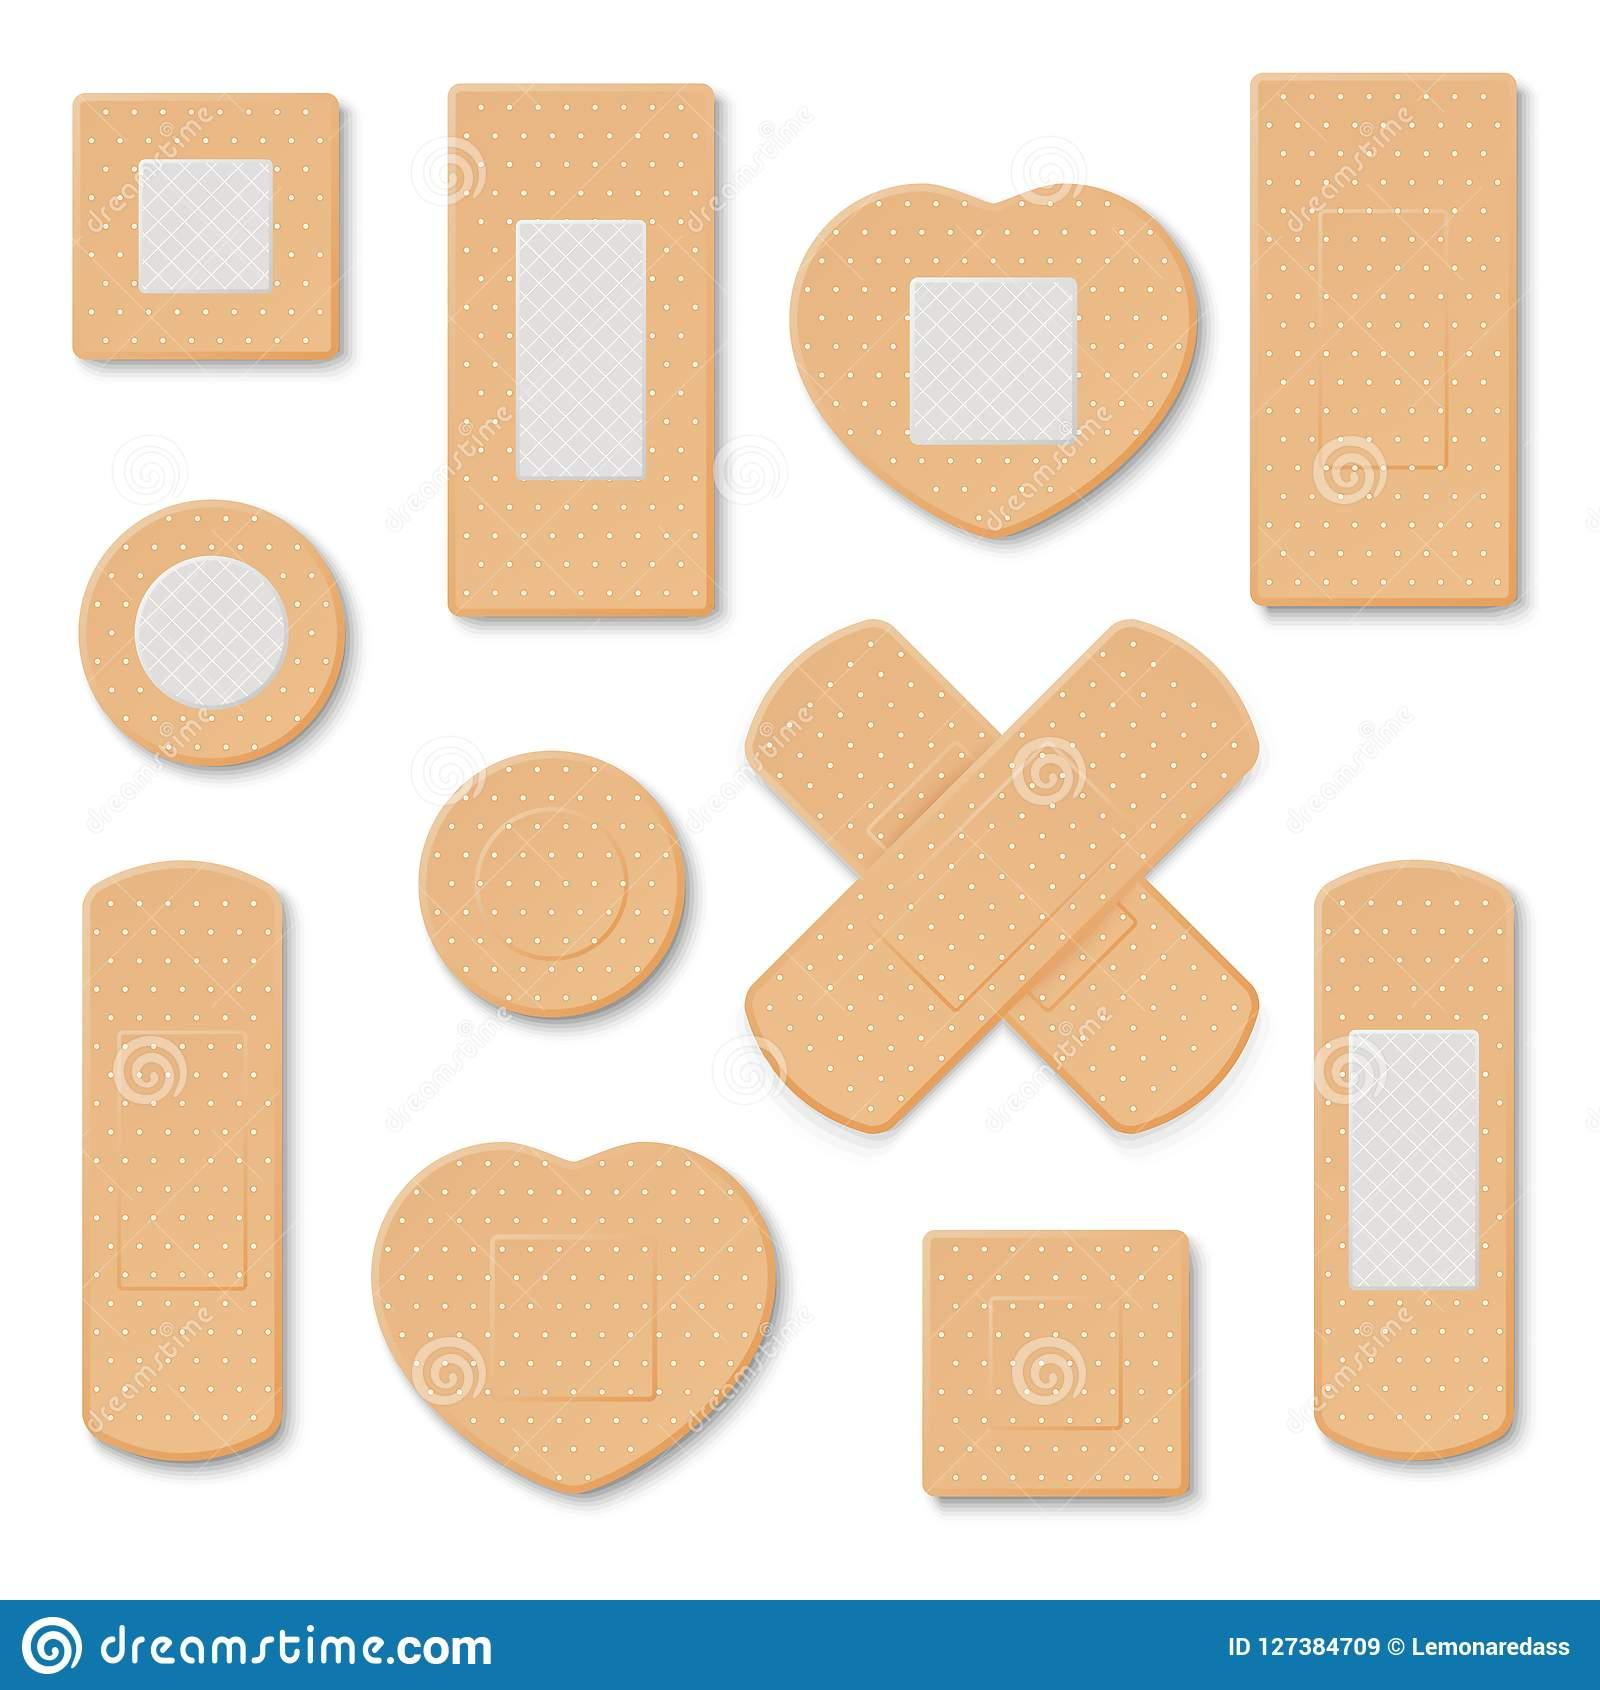bandage: (741, 621, 1263, 1128), (791, 180, 1212, 549), (1244, 71, 1525, 612), (367, 1134, 780, 1501), (454, 87, 725, 625), (77, 860, 295, 1463), (1307, 865, 1525, 1460), (920, 1224, 1197, 1498), (77, 498, 350, 770), (421, 750, 684, 1025), (74, 90, 340, 361)
